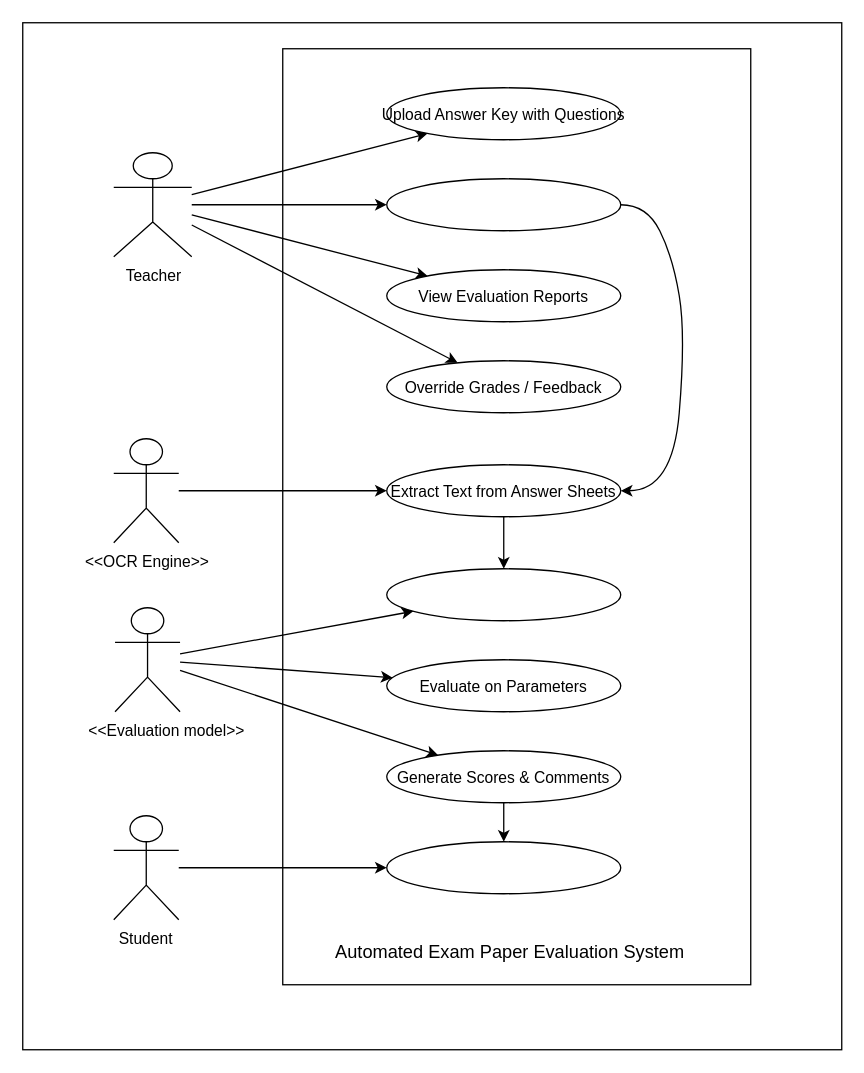
Image size: 864x1073. Some labels were removed from this diagram. Here are the shapes that lost their labels. From the top down, the centre of each, then its label:
the point at 503,204: Upload Student Answer Sheets
the point at 503,594: Compare Answers with Key
the point at 503,867: View Results & Feedback
